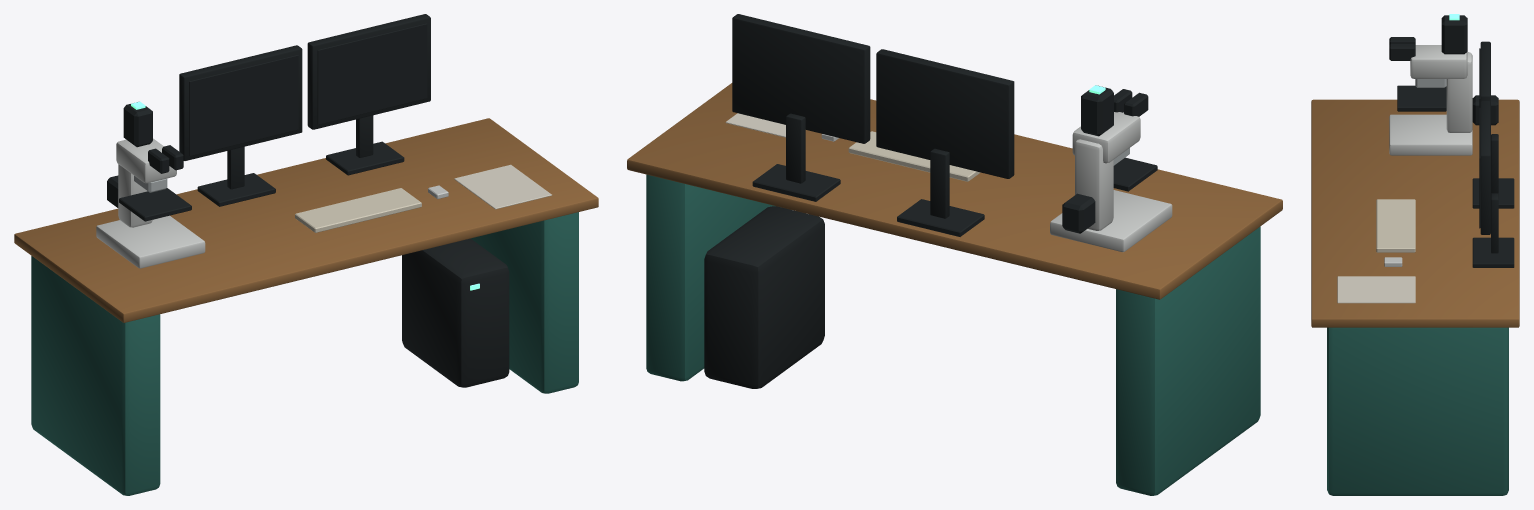
File: cytogenetics-workstation.glb
3 renders of one model, left to right at view 1: azimuth 30°, elevation 25°; view 2: azimuth 150°, elevation 25°; view 3: azimuth 270°, elevation 25°, orthographic. The views are drawn at different scales.
Parts seen in each view (by area): view 1: cytogenetics-workstation; view 2: cytogenetics-workstation; view 3: cytogenetics-workstation.
Part boxes in pixels (x1,y1,x2,y2): cytogenetics-workstation: [14, 14, 598, 495]; cytogenetics-workstation: [627, 14, 1282, 495]; cytogenetics-workstation: [1311, 14, 1519, 495].
Size of the model in its own units: 2 by 1.32 by 0.8.
